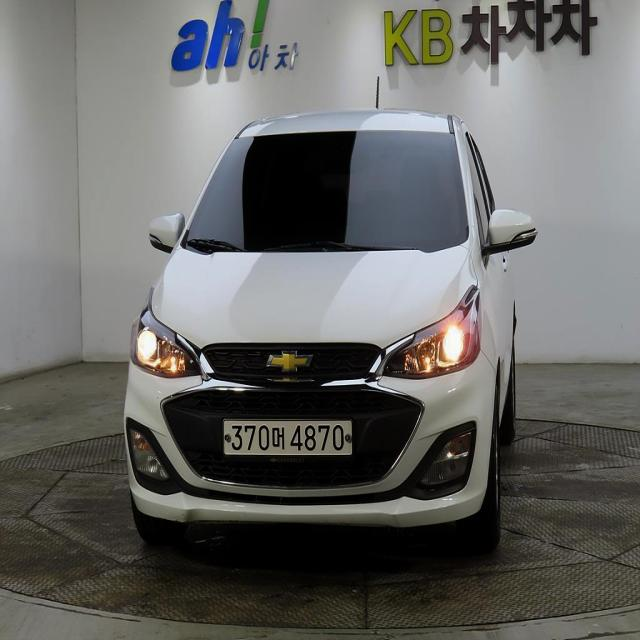car: (118, 96, 544, 548)
illegal_plate: (225, 416, 354, 465)
